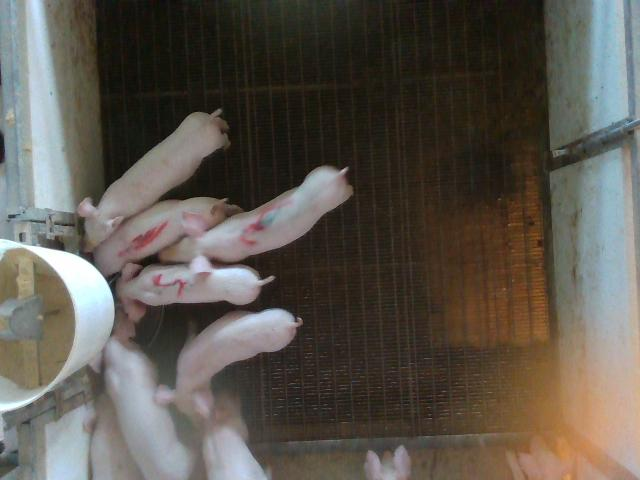pig-1: (94, 198, 240, 276)
pig-3: (159, 168, 352, 272)
pig-5: (116, 262, 274, 322)
